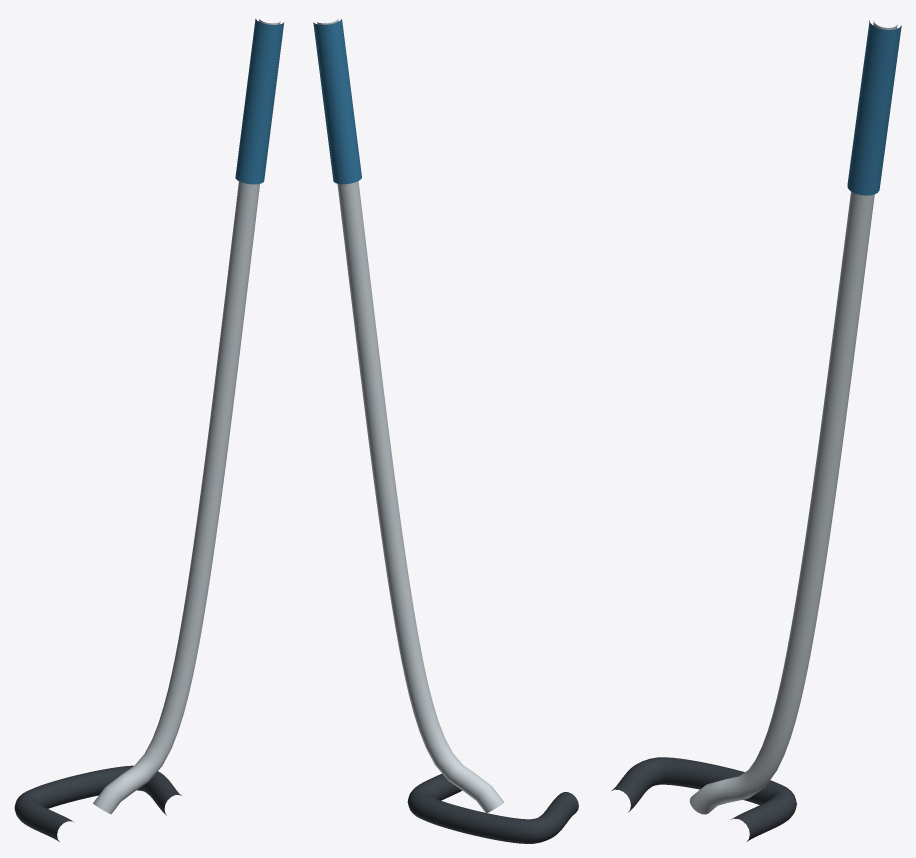
The model's file is curling-club-and-ice-maintenance-delivery-stick-71806e09__31272.glb.
3 views of the same model, side by side, from view 1: azimuth 30°, elevation 25°; view 2: azimuth 150°, elevation 25°; view 3: azimuth 330°, elevation 25° (orthographic). The views are drawn at different scales.
Visible parts, largest first — view 1: delivery-stick; view 2: delivery-stick; view 3: delivery-stick.
Part boxes in pixels (x1=…): delivery-stick: x1=14, y1=19, x2=284, y2=841; delivery-stick: x1=313, y1=19, x2=578, y2=843; delivery-stick: x1=611, y1=20, x2=901, y2=841.
Bounding box in the file's own units: 0.3766 × 1.08 × 0.1285.
